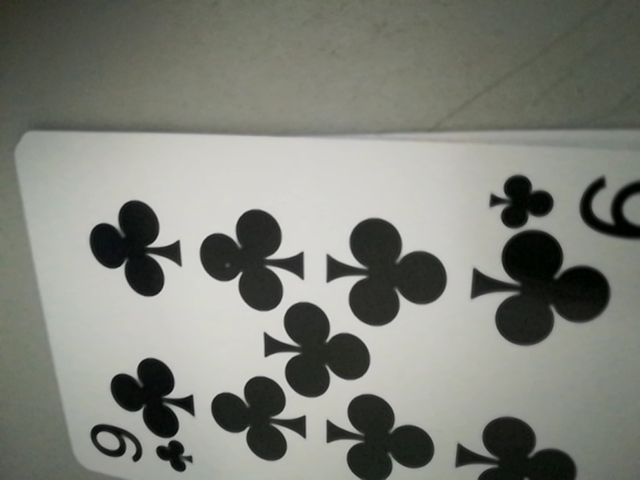mh 9: (480, 166, 640, 236), (87, 421, 198, 477)
